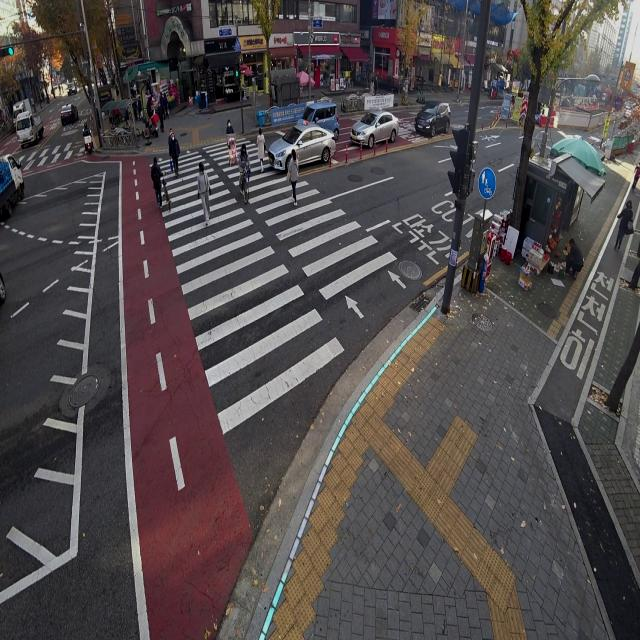Car: (271, 116, 338, 177), (350, 103, 406, 160), (294, 88, 345, 141), (412, 92, 456, 149), (61, 101, 77, 128), (64, 78, 79, 100)
Motorcycle: (82, 121, 95, 155)
Truck: (0, 140, 29, 238), (14, 106, 46, 151), (14, 96, 33, 124)
